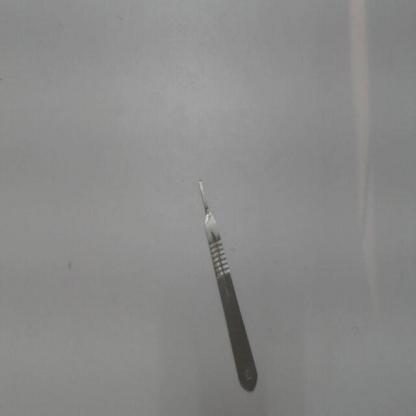No.3 BP Handle: (183, 164, 265, 398)
